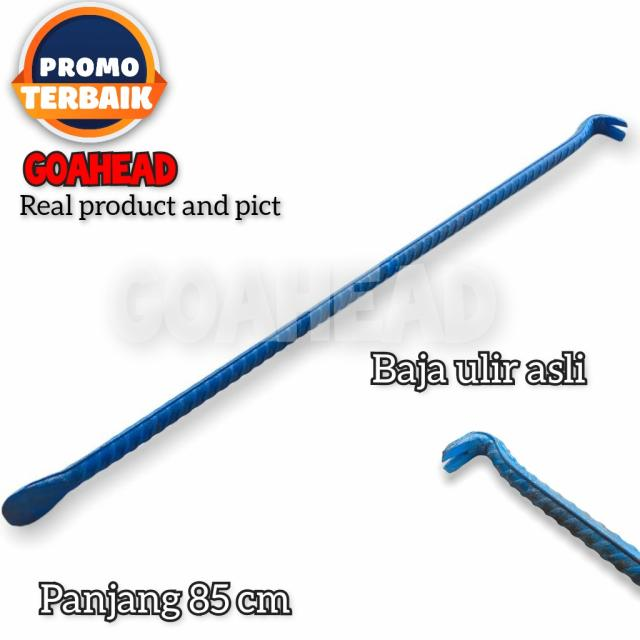Linggis: (3, 114, 629, 526)
